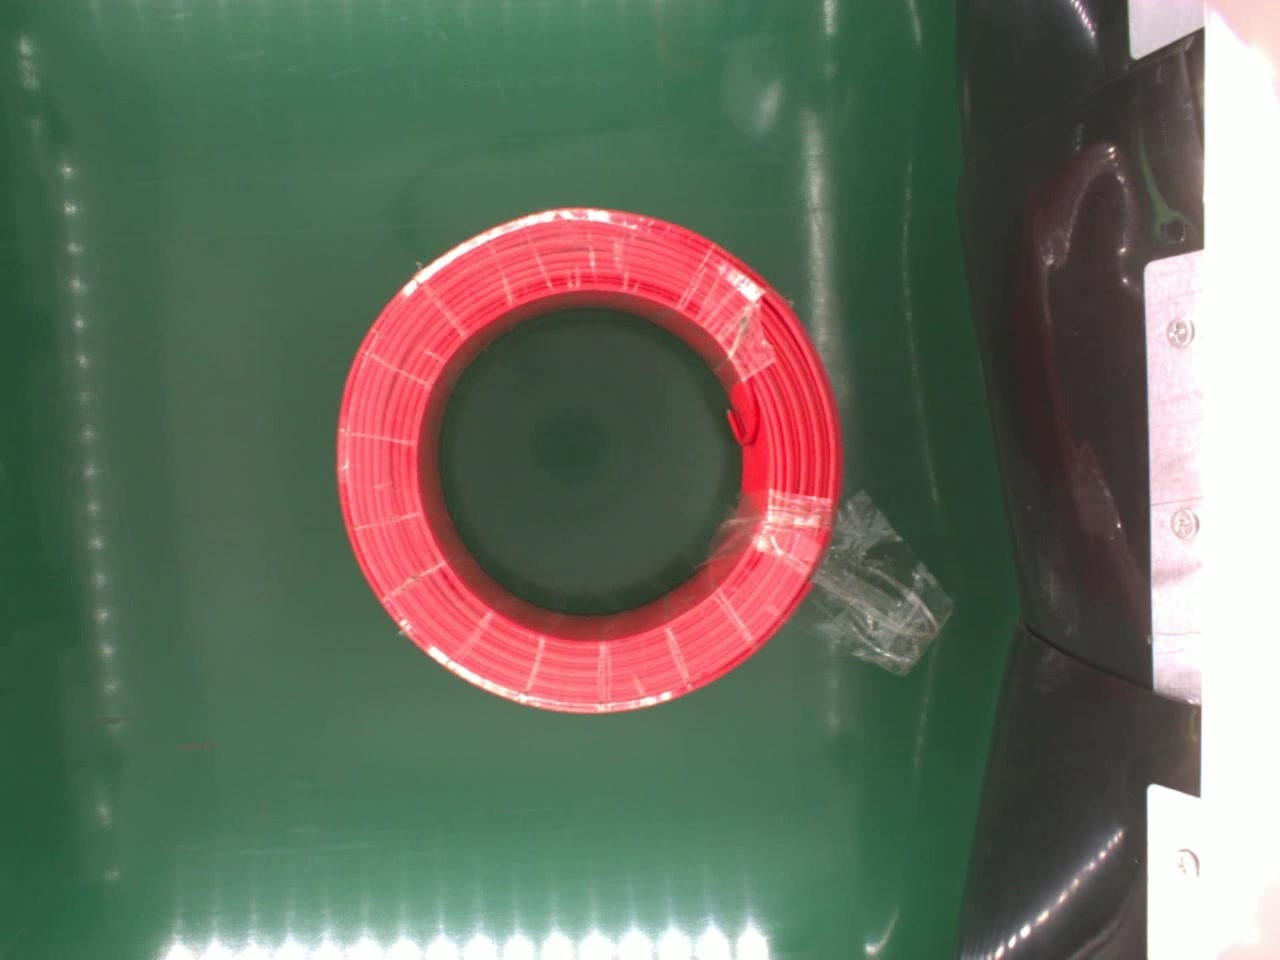red: (332, 205, 843, 714)
